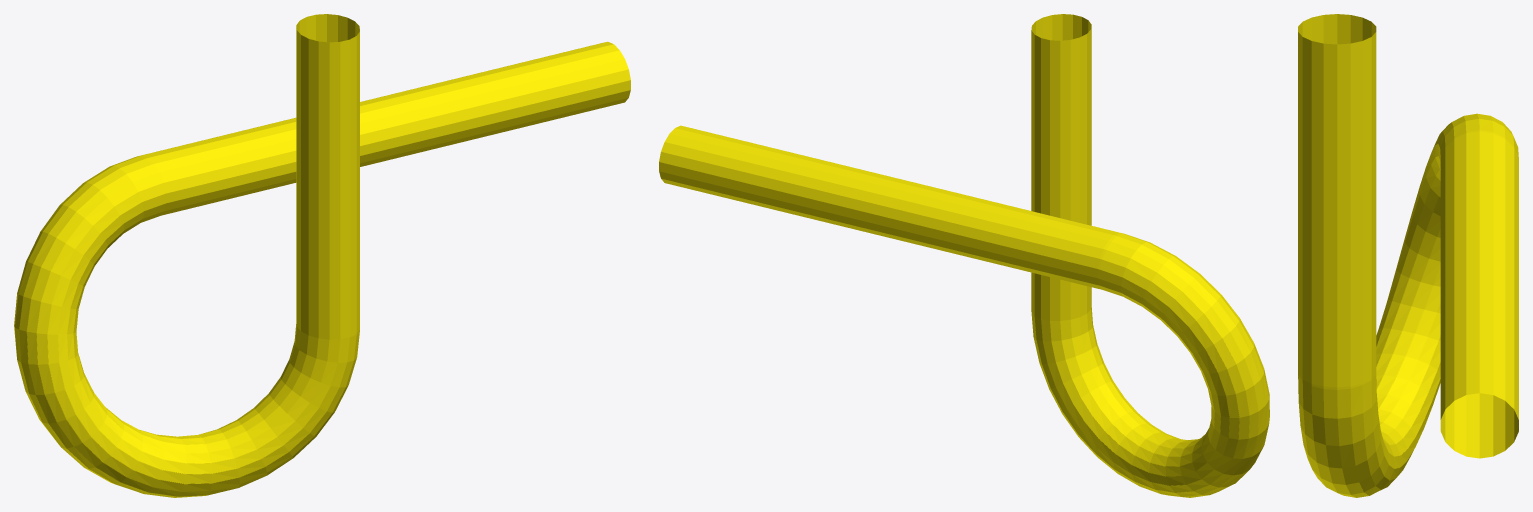
File: alpha_env-1.1.dae
The picture shows the model from 3 angles, left to right: view 1: azimuth 30°, elevation 25°; view 2: azimuth 150°, elevation 25°; view 3: azimuth 270°, elevation 25°; orthographic projection. The views are drawn at different scales.
Visible parts, largest first — view 1: instance_0; view 2: instance_0; view 3: instance_0.
Boxes of the visible parts, left/top/right/bottom form: instance_0: left=14, top=14, right=630, bottom=497; instance_0: left=659, top=14, right=1269, bottom=497; instance_0: left=1298, top=14, right=1518, bottom=497.
Size of the model in its own units: 239 by 65.04 by 168.
